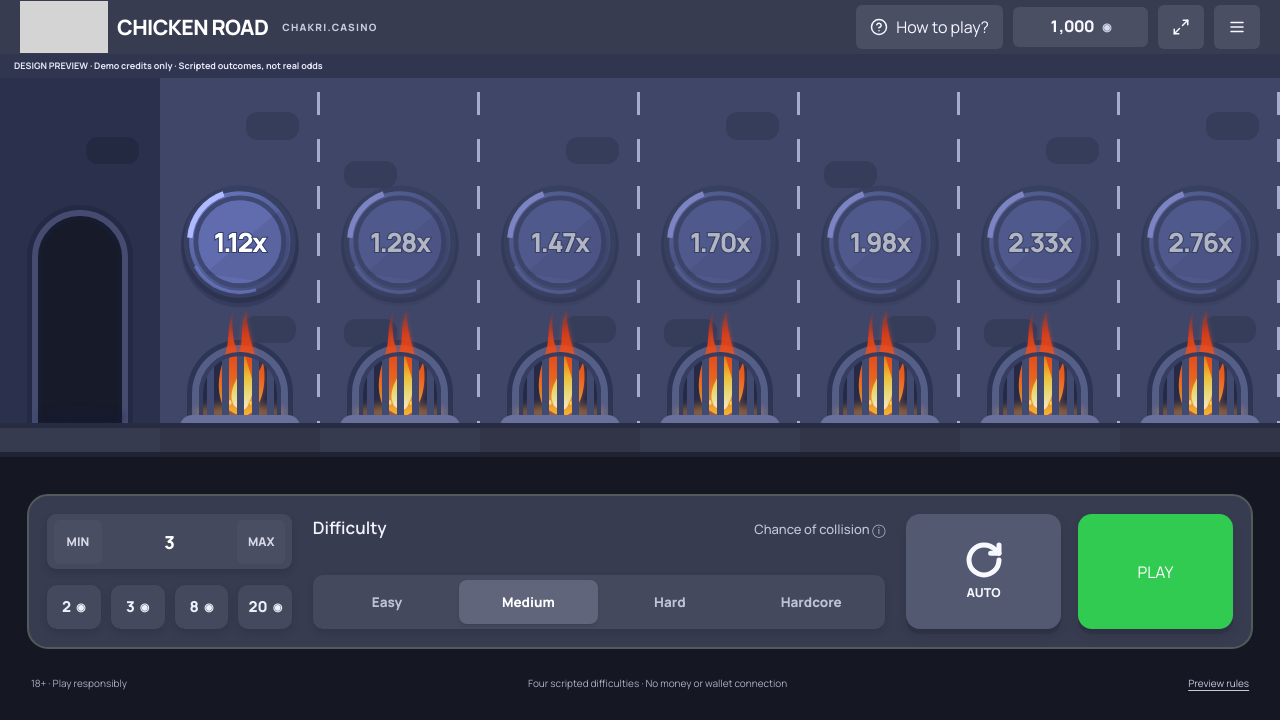
Test: Hard is playable only as a local scripted preview with its own ladder
Later steps or results of the test are not shown.
What coordinates should you click on to do the following:
click the button "Hard"
I would click on:
 (670, 602)
Its box is [601, 580, 739, 624].
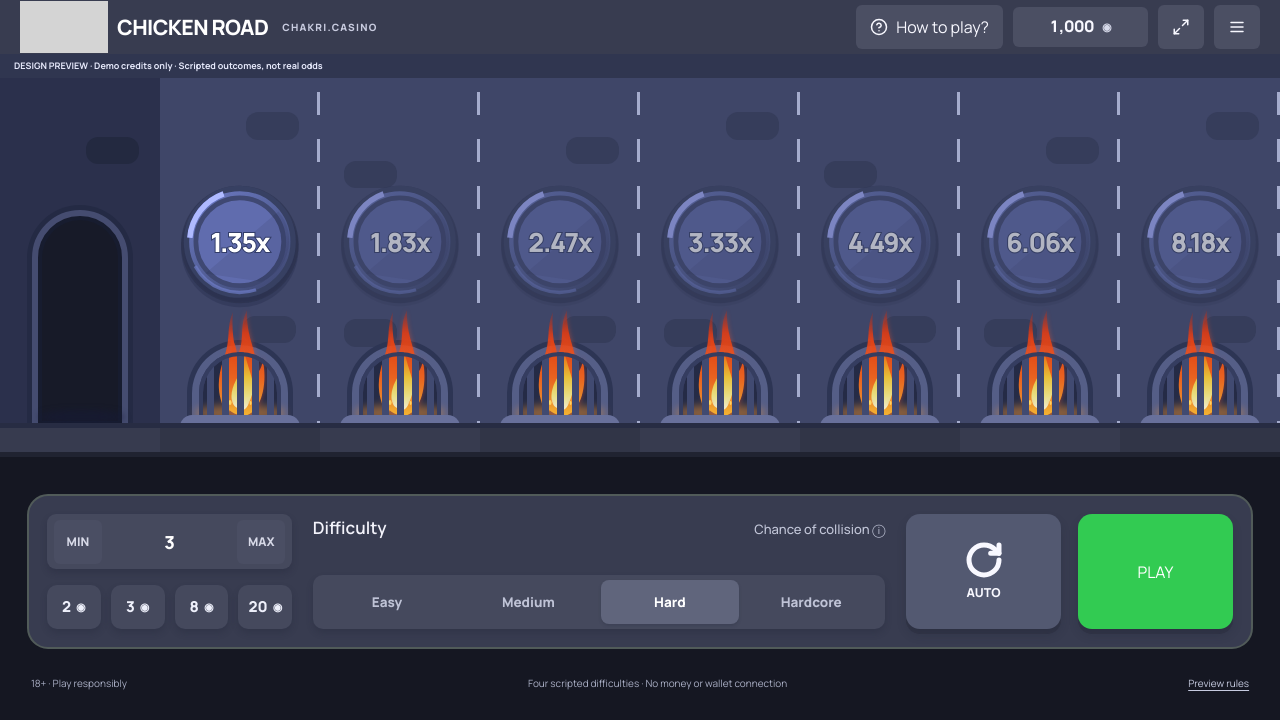
expect the button "Hard" is pressed: met, box [601, 580, 739, 624]
